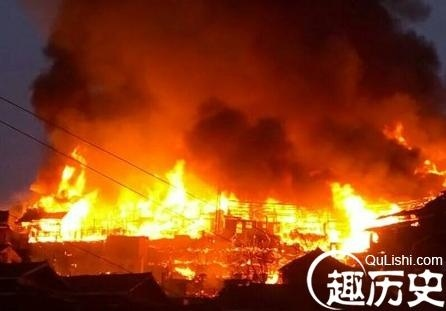fire: (33, 151, 427, 264)
